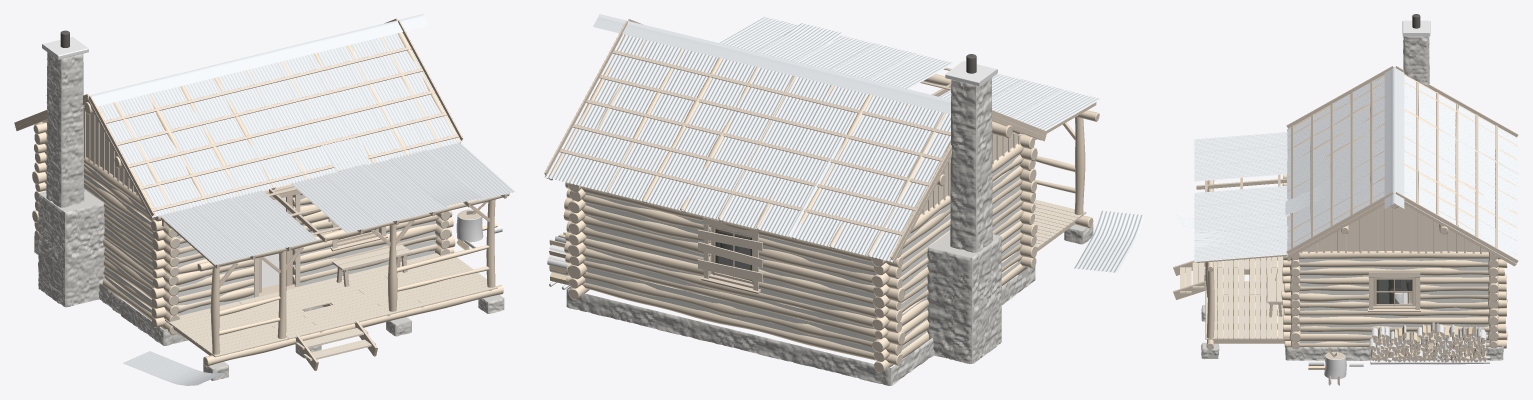
The model's file is cabin.glb.
3 renders of one model, left to right at view 1: azimuth 30°, elevation 25°; view 2: azimuth 150°, elevation 25°; view 3: azimuth 270°, elevation 25°, orthographic. The views are drawn at different scales.
Visible parts, largest first — view 1: cabin; view 2: cabin, cabin_glass; view 3: cabin, cabin_glass.
Part boxes in pixels (x1,y1,x2,y2): cabin: (14, 14, 515, 385); cabin: (544, 14, 1144, 385); cabin_glass: (715, 229, 751, 280); cabin: (1173, 14, 1518, 385); cabin_glass: (1376, 279, 1412, 303).
Bounding box in the file's own units: 10.27 × 6.09 × 8.73.
